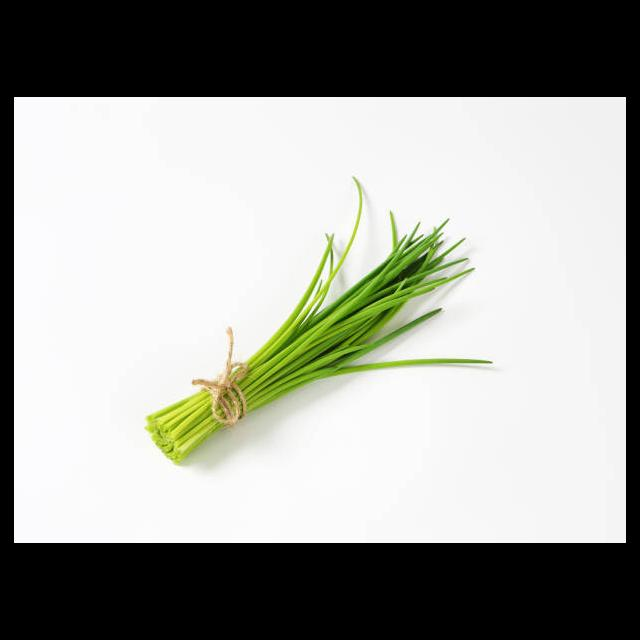green_onion: (149, 154, 522, 441)
